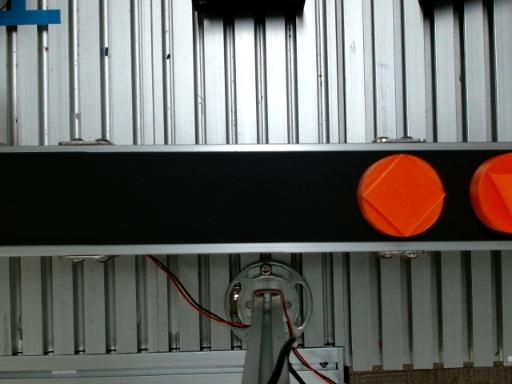Orange_Waper: (358, 154, 446, 238), (470, 153, 511, 234)
Square: (362, 154, 446, 239)
